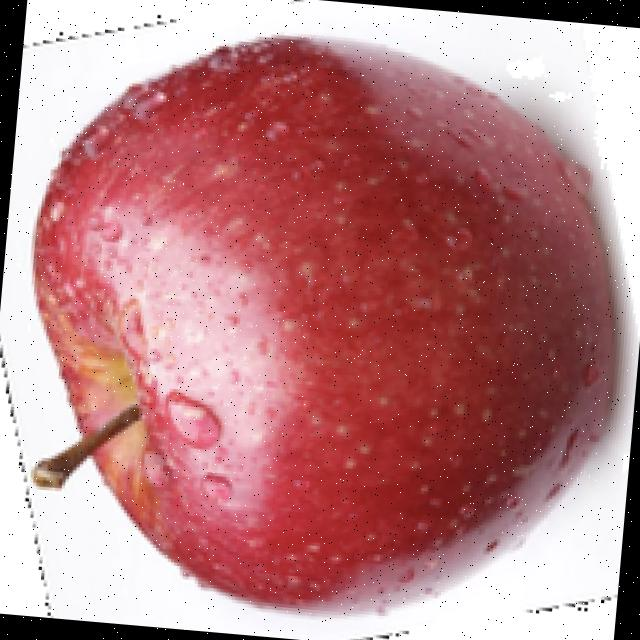apple: (22, 30, 638, 623)
